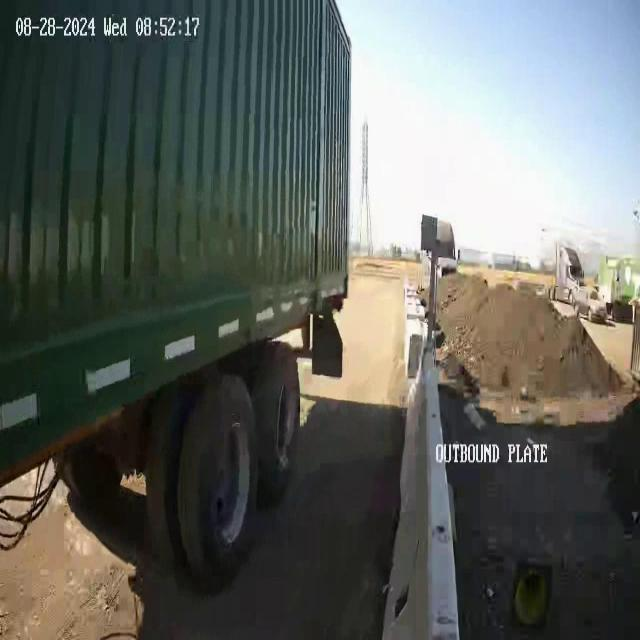CONTAINER: (1, 1, 352, 494)
